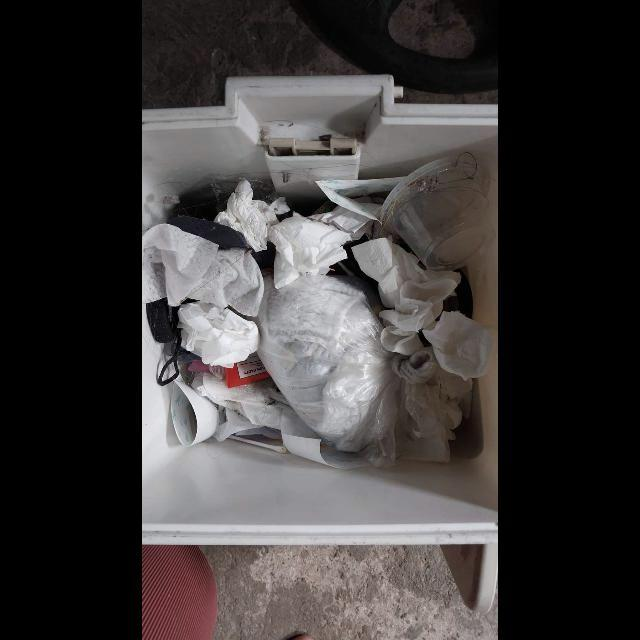paper: (352, 235, 461, 355), (142, 224, 265, 317), (271, 212, 352, 289), (214, 179, 290, 252), (178, 301, 260, 368), (424, 311, 496, 380), (282, 433, 372, 469)
plastic_bag: (253, 274, 446, 466)
plastic_container: (381, 157, 496, 270)
